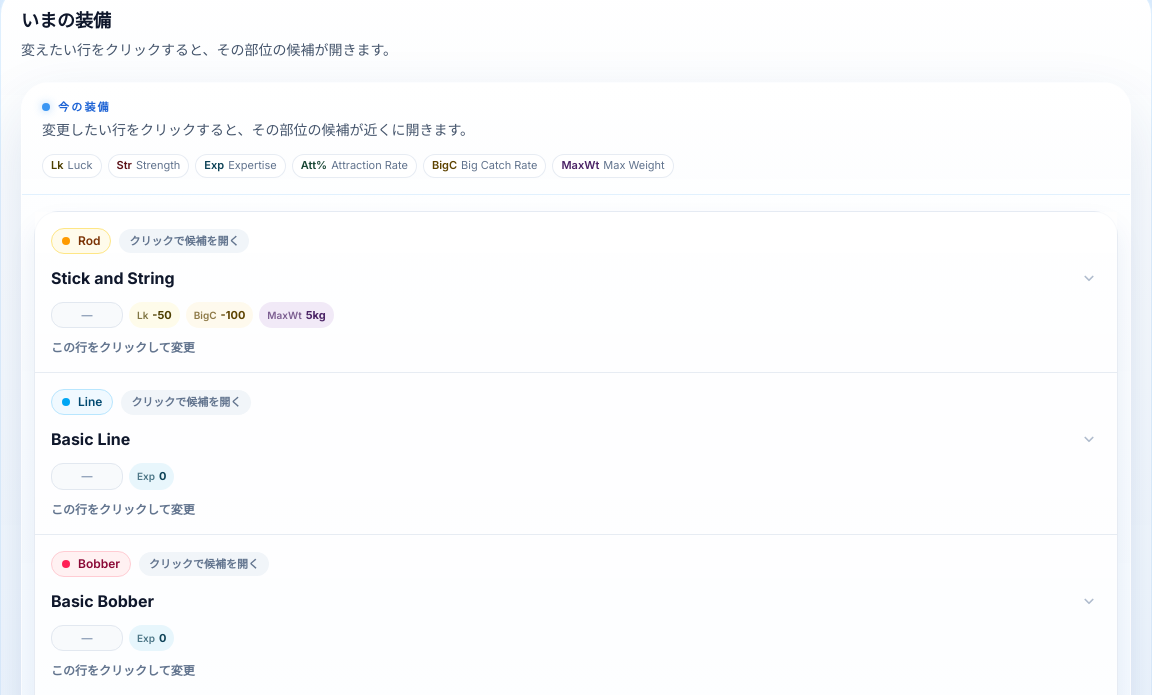
Scenario: Step 1 loadout UI quality › shows per-column deltas against the current equipment in the picker table
Step 1. Click the button named "Rod を選び直す" → [576, 292], box [35,212,1117,372]
(page scrolled)
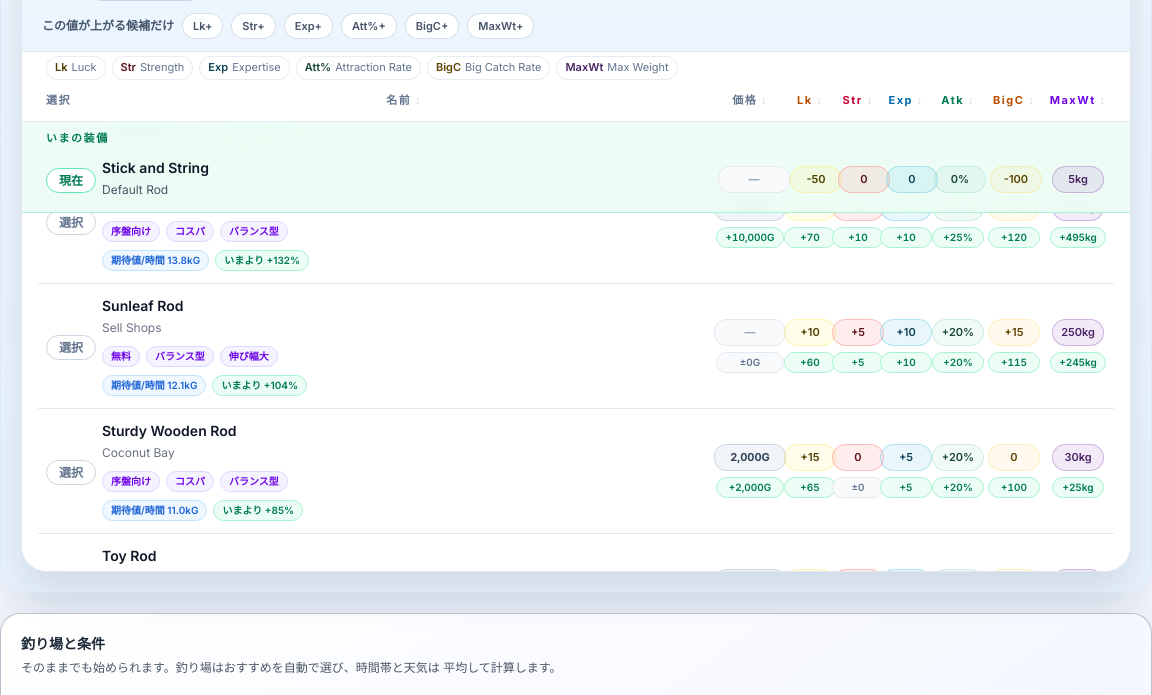
Expected: the button with test id "picker-option-row" shows "+60", [38,284,1114,409]
Expected: the button with test id "picker-option-row" shows "+115", [38,284,1114,409]
Expected: the button with test id "picker-option-row" shows "+245kg", [38,284,1114,409]
